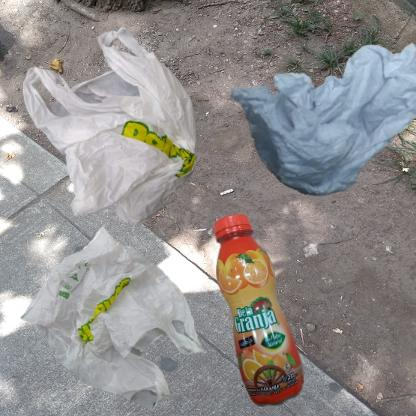bolsa: (10, 10, 257, 281), (10, 213, 215, 416)
botella: (213, 213, 305, 409)
papel: (213, 10, 416, 220)
